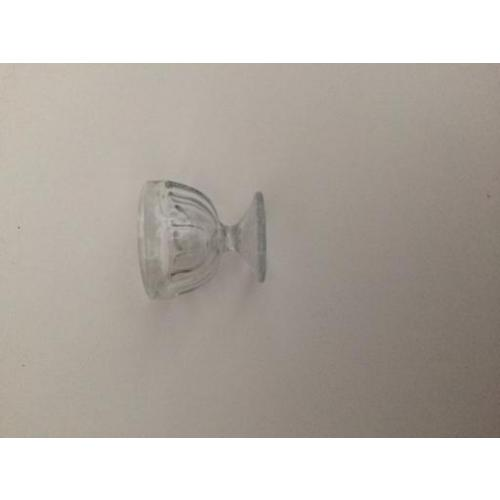glass: (139, 177, 264, 307)
